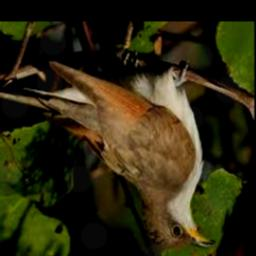Cuckoo: (45, 60, 215, 249)
